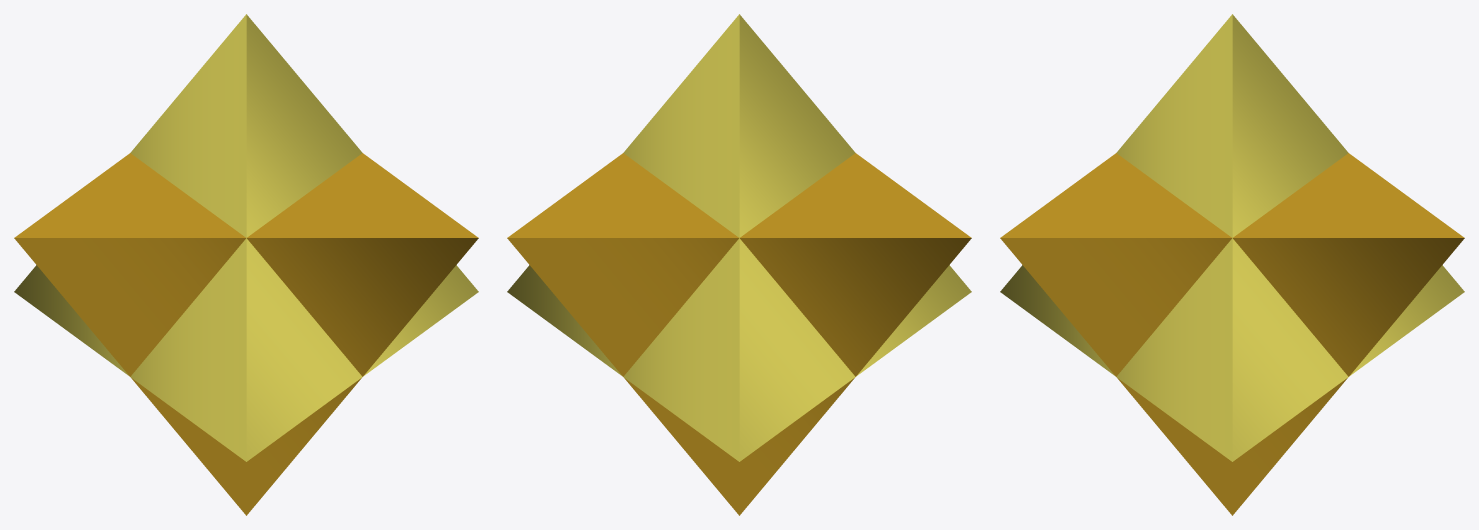
Rendered from scorepack.glb.
The picture shows the model from 3 angles, left to right: view 1: azimuth 30°, elevation 25°; view 2: azimuth 150°, elevation 25°; view 3: azimuth 270°, elevation 25°; orthographic projection.
Parts seen in each view (by area): view 1: Cone002; view 2: Cone002; view 3: Cone002.
Part boxes in pixels (<box>): Cone002: <box>14,14,478,515</box>; Cone002: <box>507,14,971,515</box>; Cone002: <box>1000,14,1464,515</box>.
Size of the model in its own units: 96.11 by 99.17 by 83.23.
Materials: 1 (1 with a texture image).
